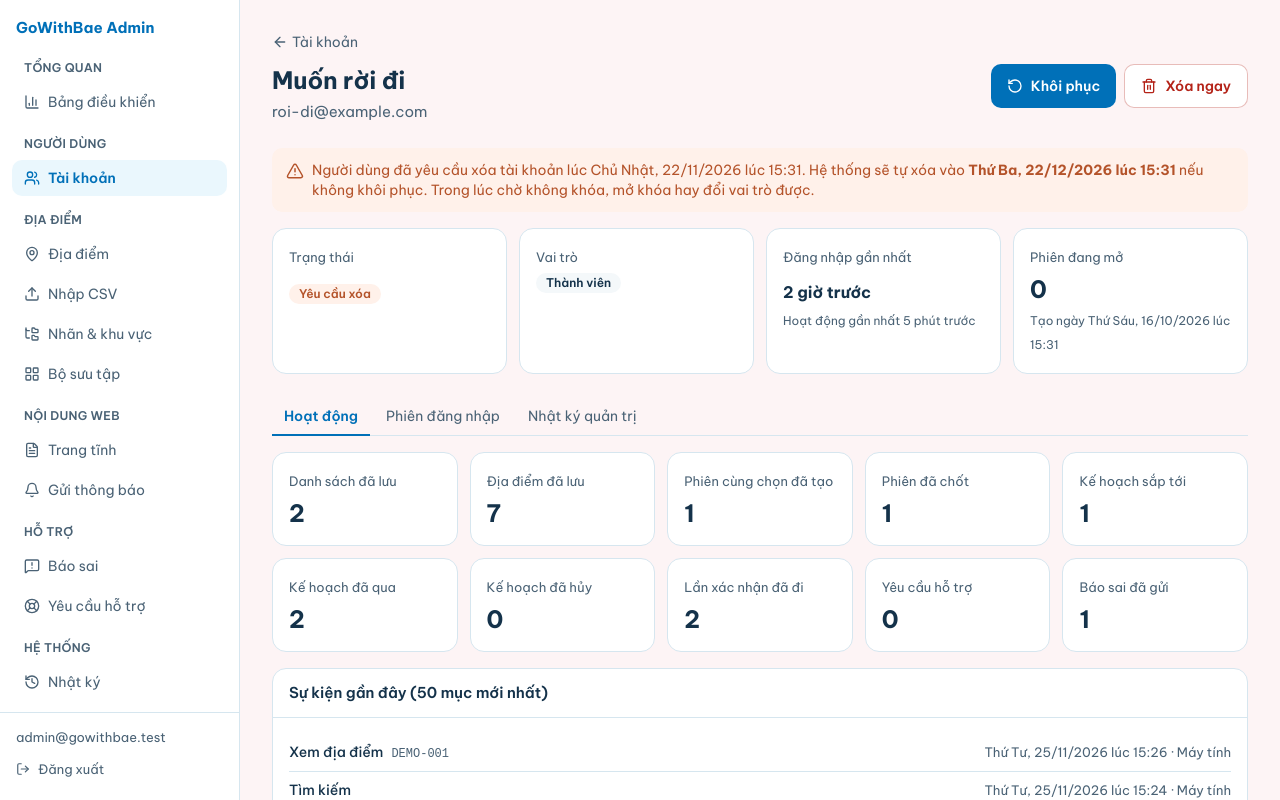
Test: Tài khoản đang chờ xóa › hiện ngày tự xóa, ẩn Khóa/Vai trò, khôi phục cần lý do
Expected: the text "Hệ thống sẽ tự xóa vào" is shown, x1=806 y1=161 x2=968 y2=179
Expected: the button "Khóa" is not shown
Click the button "Khôi phục". click: (1053,86)
box: x1=991 y1=64 x2=1116 y2=108
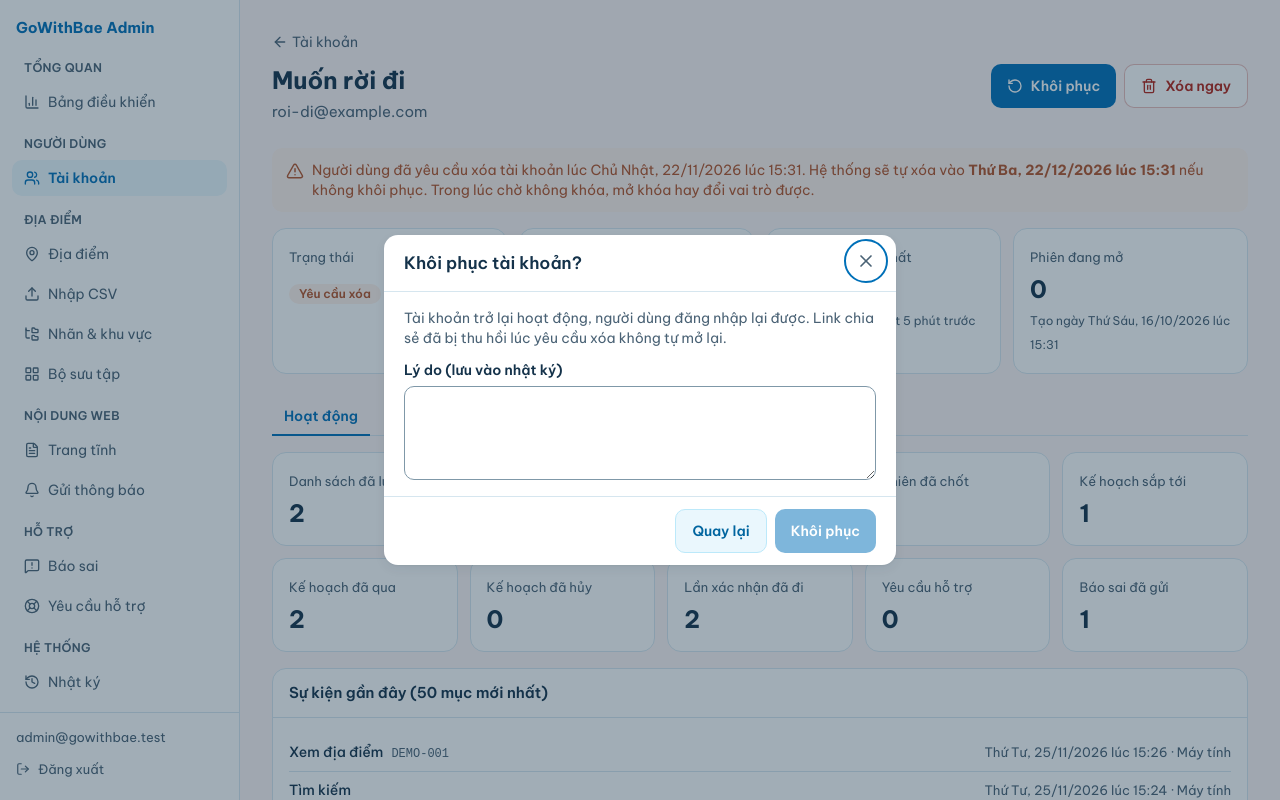
Expected: the button "Khôi phục" below "Lý do (lưu vào nhật ký)" is disabled, x1=775 y1=509 x2=876 y2=553
Type "Người dùng nhờ giữ lại" into the text box labelled "Lý do (lưu vào nhật ký)". click: (640,433)
box: x1=404 y1=386 x2=876 y2=480
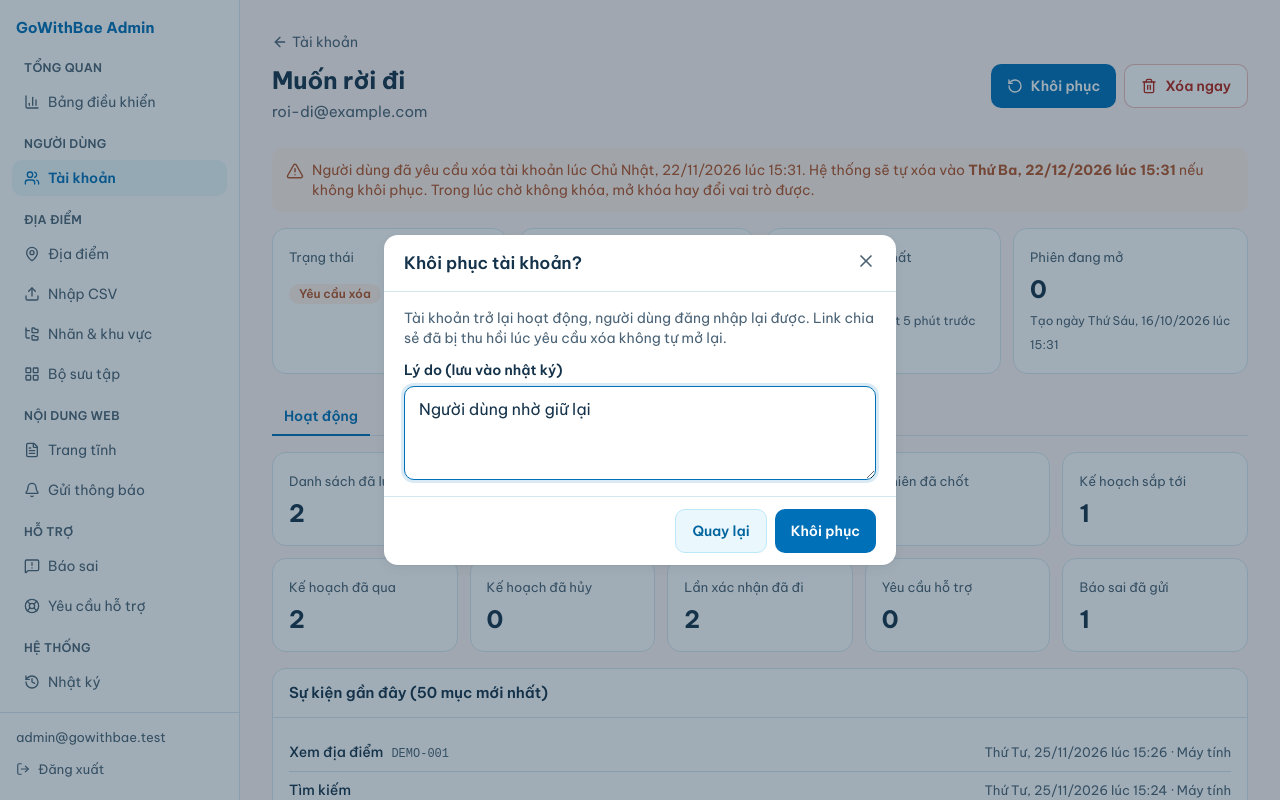
Click the button "Khôi phục" below "Lý do (lưu vào nhật ký)". click: (825,531)
box: x1=775 y1=509 x2=876 y2=553
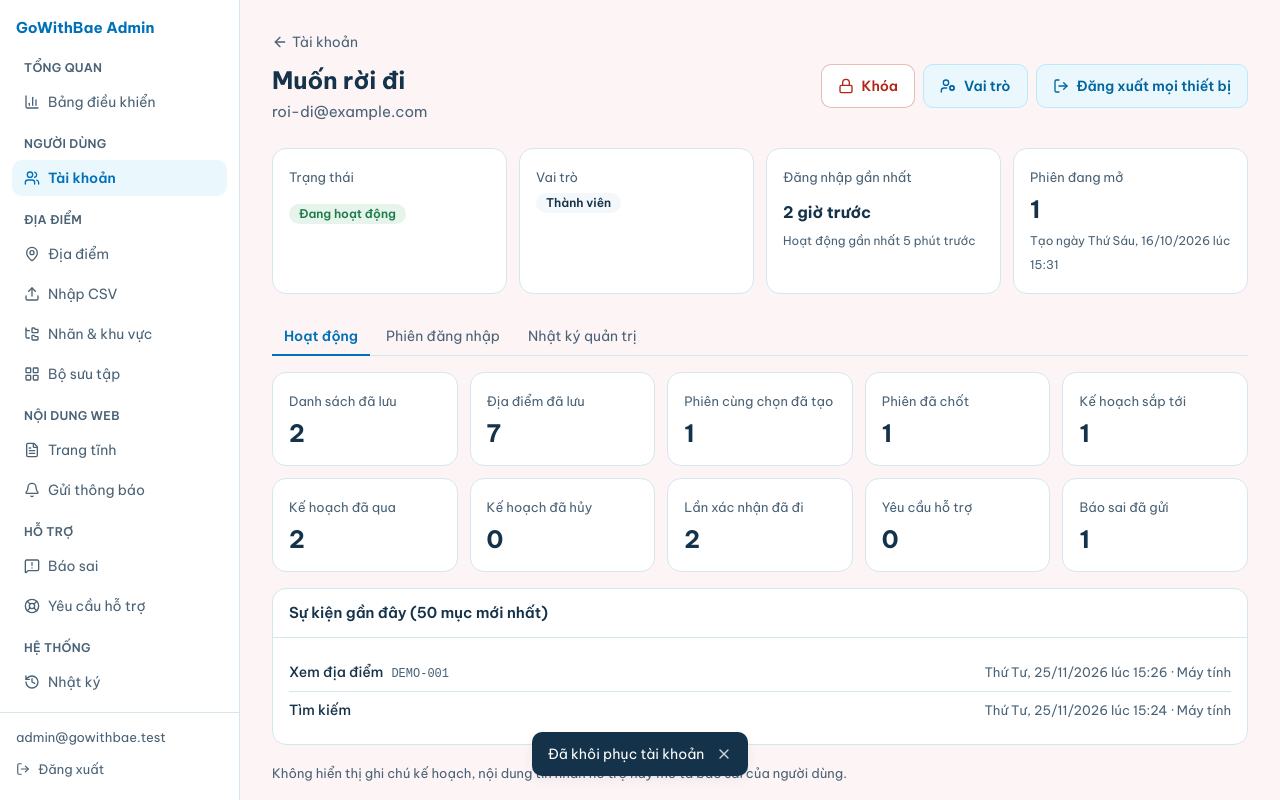
Expected: the text "Đã khôi phục tài khoản" is shown, x1=548 y1=744 x2=704 y2=764
Expected: the button "Vai trò" is shown, x1=923 y1=64 x2=1028 y2=108
